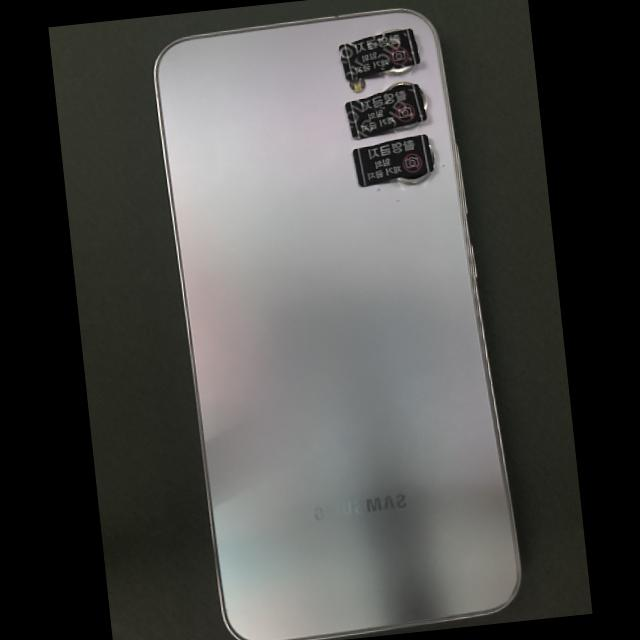lens: (395, 172, 431, 185), (385, 82, 411, 92), (384, 66, 412, 73)
phone: (152, 6, 522, 640)
sticker: (345, 83, 427, 140), (352, 134, 434, 187), (338, 28, 420, 81)
